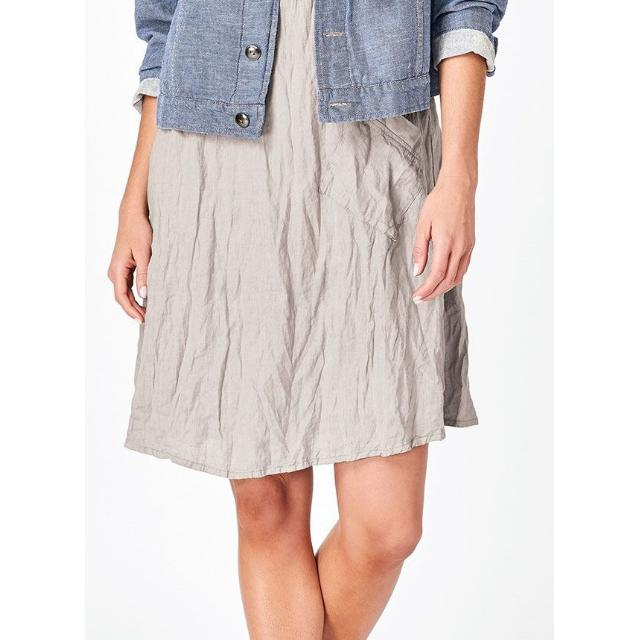linen: (144, 136, 418, 440)
